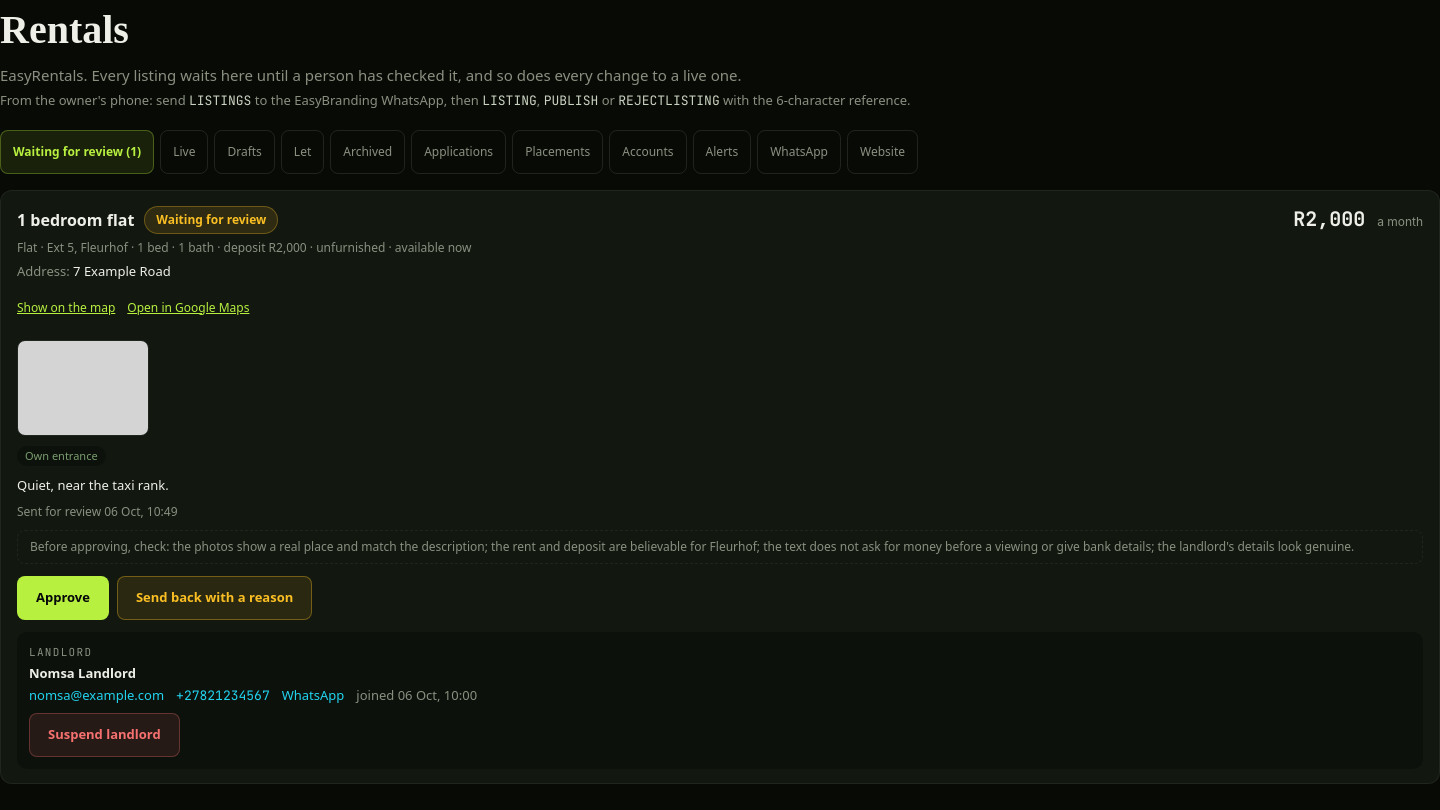
Test case: RentalsPanel › shows the server's refusal word for word
This screenshot has width=1440, height=810.
Click the button "Approve" at (63, 598), box x1=17 y1=576 x2=109 y2=620
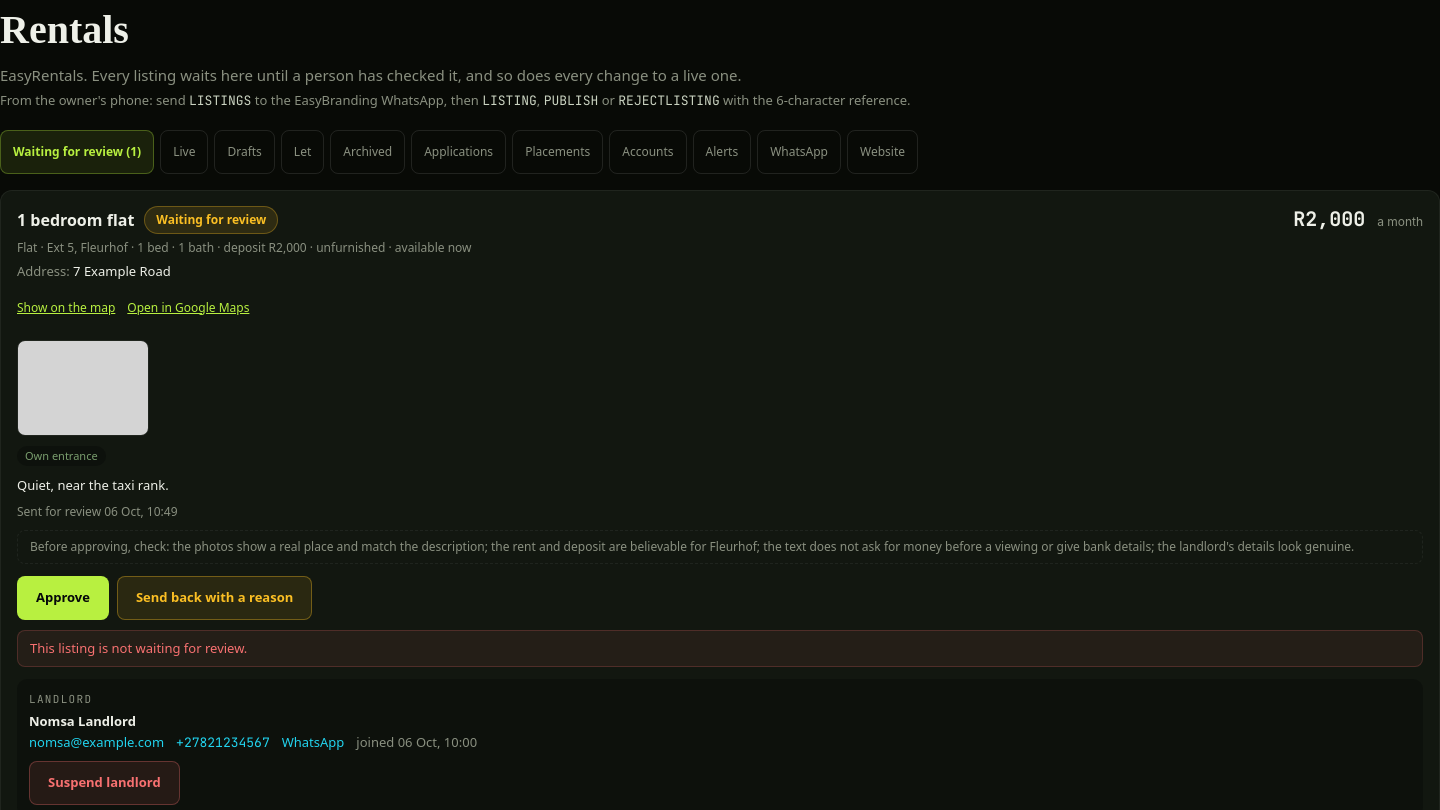
Expected: the text "This listing is not waiting for review." is shown, x1=17 y1=630 x2=1423 y2=667
